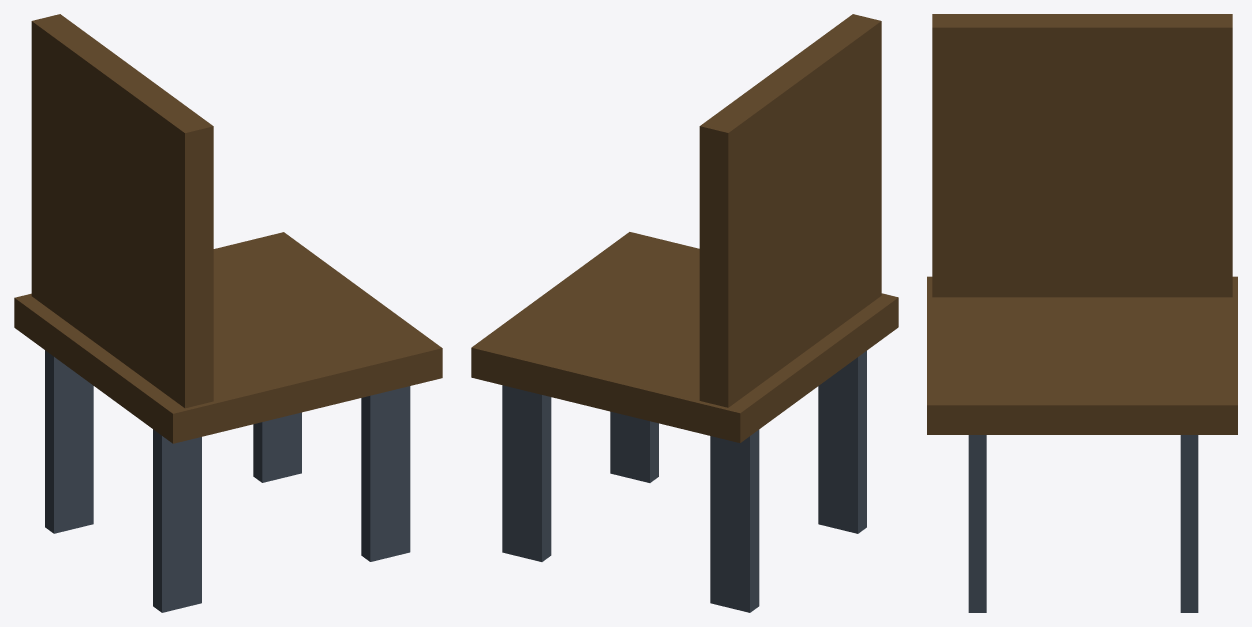
Rendered from chair.fbx.
The picture shows the model from 3 angles, left to right: view 1: azimuth 30°, elevation 25°; view 2: azimuth 150°, elevation 25°; view 3: azimuth 270°, elevation 25°; orthographic projection. The views are drawn at different scales.
Visible parts, largest first — view 1: Cube.005, Cube.004, Cube, Cube.003, Cube.001, Cube.002; view 2: Cube.005, Cube.004, Cube.001, Cube.002, Cube, Cube.003; view 3: Cube.005, Cube.004, Cube.002, Cube.003.
Part boxes in pixels (x1=…): Cube.005: x1=31, y1=14, x2=213, y2=408; Cube.004: x1=14, y1=232, x2=442, y2=443; Cube: x1=153, y1=429, x2=201, y2=612; Cube.003: x1=361, y1=386, x2=410, y2=561; Cube.001: x1=45, y1=350, x2=93, y2=533; Cube.002: x1=253, y1=412, x2=301, y2=482; Cube.005: x1=699, y1=14, x2=881, y2=407; Cube.004: x1=471, y1=232, x2=898, y2=442; Cube.001: x1=710, y1=429, x2=759, y2=612; Cube.002: x1=502, y1=385, x2=551, y2=561; Cube: x1=818, y1=351, x2=866, y2=533; Cube.003: x1=610, y1=411, x2=658, y2=482; Cube.005: x1=932, y1=14, x2=1232, y2=297; Cube.004: x1=927, y1=276, x2=1237, y2=434; Cube.002: x1=1180, y1=435, x2=1198, y2=612; Cube.003: x1=968, y1=435, x2=986, y2=612.
Size of the model in its own units: 150 by 263 by 153.
